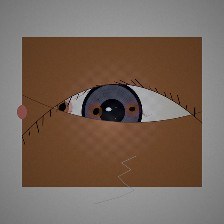foreign_body_visible: (40, 89, 85, 126)
